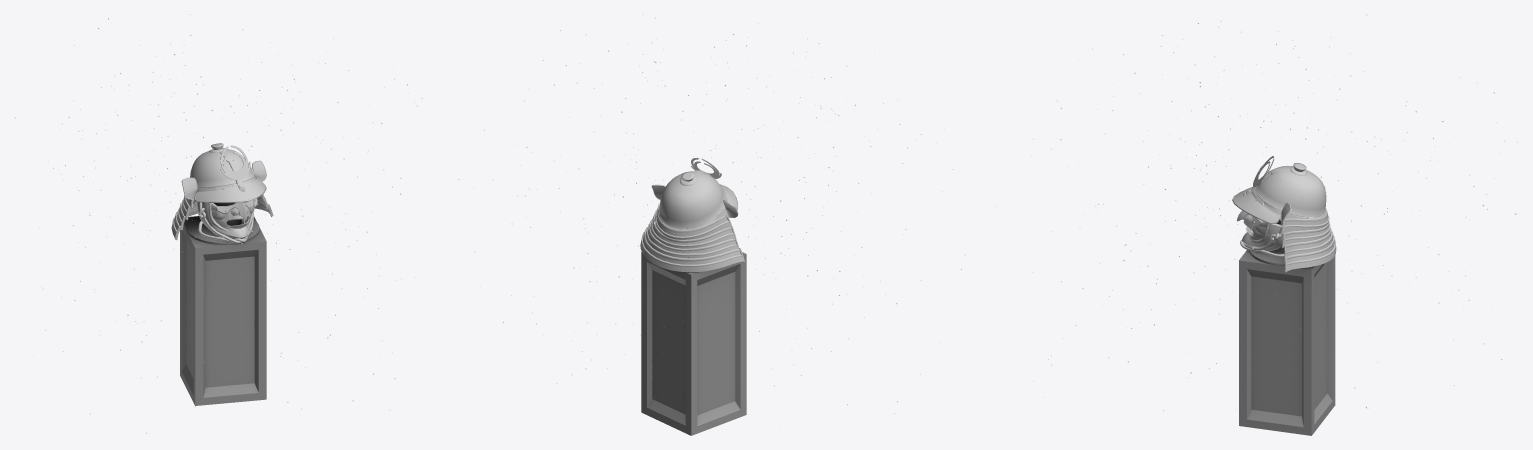
3 views of the same model, side by side, from view 1: azimuth 30°, elevation 25°; view 2: azimuth 150°, elevation 25°; view 3: azimuth 270°, elevation 25° (orthographic). The views are drawn at different scales.
Visible parts, largest first — view 1: Helmet; view 2: Helmet; view 3: Helmet.
Part boxes in pixels (bbox=[...]): Helmet: bbox=[15, 14, 422, 433]; Helmet: bbox=[458, 14, 996, 435]; Helmet: bbox=[1033, 14, 1517, 435].
Size of the model in its own units: 2118 by 1741 by 2124.
